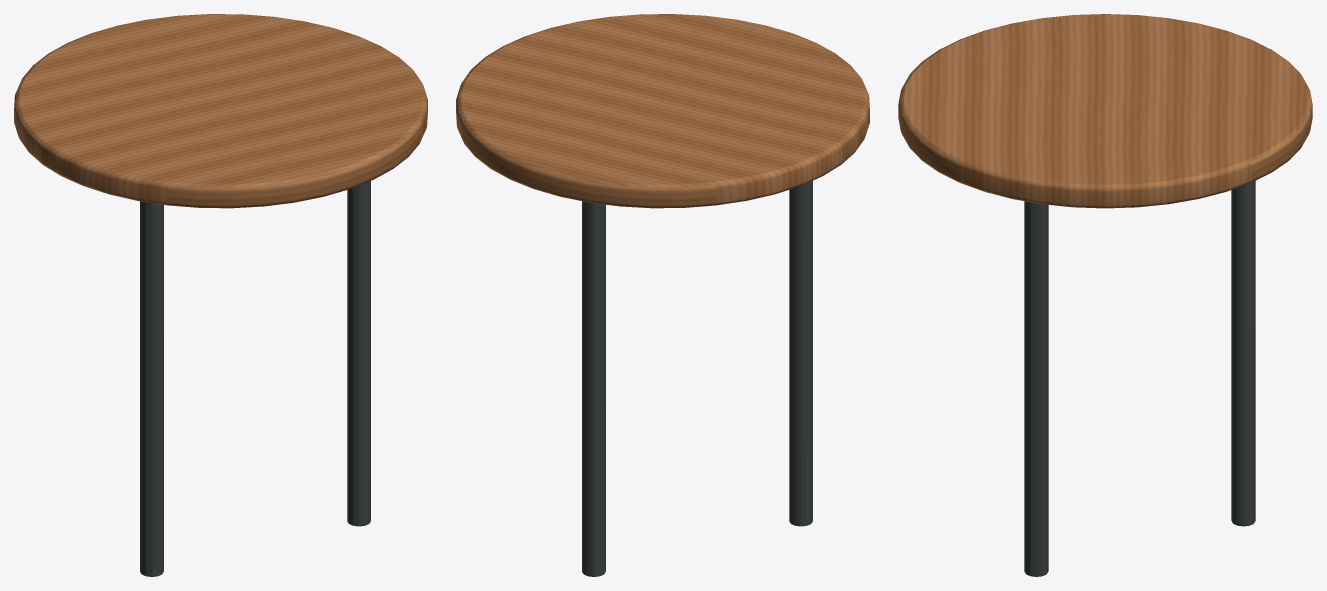
Rendered from sidetable_v06a.glb.
3 renders of one model, left to right at view 1: azimuth 30°, elevation 25°; view 2: azimuth 150°, elevation 25°; view 3: azimuth 270°, elevation 25°, orthographic.
Visible parts, largest first — view 1: VIS_SideTableRoundTop, VIS_SideTableSupportThreeLegs; view 2: VIS_SideTableRoundTop, VIS_SideTableSupportThreeLegs; view 3: VIS_SideTableRoundTop, VIS_SideTableSupportThreeLegs.
Boxes of the visible parts, bbox=[...] form: VIS_SideTableRoundTop: bbox=[14, 14, 427, 208]; VIS_SideTableSupportThreeLegs: bbox=[140, 181, 370, 576]; VIS_SideTableRoundTop: bbox=[456, 14, 869, 208]; VIS_SideTableSupportThreeLegs: bbox=[582, 180, 812, 576]; VIS_SideTableRoundTop: bbox=[898, 14, 1312, 208]; VIS_SideTableSupportThreeLegs: bbox=[1024, 181, 1255, 576].
Size of the model in its own units: 0.48 by 0.54 by 0.48.
2 materials, 1 textured.
